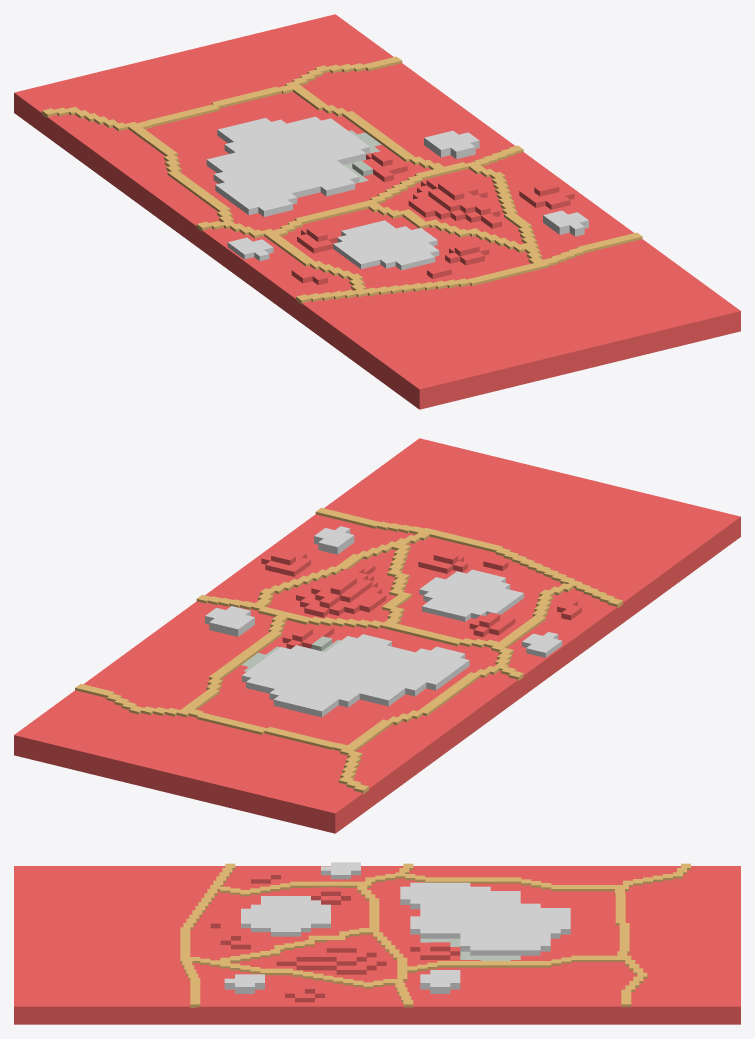
File: Map 3-7a.fbx
3 views of the same model, one above another, from view 1: azimuth 30°, elevation 25°; view 2: azimuth 150°, elevation 25°; view 3: azimuth 270°, elevation 25° (orthographic). The views are drawn at different scales.
Visible parts, largest first — view 1: Plane, Cube.013, Cube.011, Cube.047, Cube.053, Cube.003, Cube.054, Cube.056, Cube.062, Cube.046, Cube.064, Cube.052 (+2 smaller); view 2: Plane, Cube.013, Cube.011, Cube.047, Cube.053, Cube.003, Cube.054, Cube.056, Cube.062, Cube.052, Cube.064, Cube.046 (+4 smaller); view 3: Plane, Cube.013, Cube.011, Cube.047, Cube.053, Cube.054, Cube.003, Cube.056, Cube.046, Cube.062, Cube.043, Cube.064 (+21 smaller).
Part boxes in pixels (x1,y1,x2,y2): Plane: (14,14,740,409); Cube.013: (217,118,369,180); Cube.011: (206,154,359,216); Cube.047: (333,220,439,270); Cube.053: (408,176,501,228); Cube.003: (296,277,481,304); Cube.054: (426,178,490,215); Cube.056: (424,130,479,159); Cube.062: (543,210,588,236); Cube.046: (362,151,407,182); Cube.064: (519,184,574,209); Cube.052: (445,241,489,265); Plane: (14,438,740,833); Cube.013: (242,645,402,717); Cube.011: (320,634,469,706); Cube.047: (419,569,523,621); Cube.053: (296,563,386,617); Cube.003: (487,544,622,607); Cube.054: (311,566,372,608); Cube.056: (205,606,254,636); Cube.062: (314,526,354,554); Cube.052: (418,551,467,573); Cube.064: (261,548,310,576); Cube.046: (282,625,333,648); Plane: (14,866,740,1024); Cube.013: (450,899,570,955); Cube.011: (400,882,520,938); Cube.047: (241,896,330,936); Cube.053: (276,940,386,974); Cube.054: (296,944,376,965); Cube.003: (180,863,235,931); Cube.056: (420,970,460,993); Cube.046: (410,942,460,959); Cube.062: (224,974,264,993); Cube.043: (447,961,541,967); Cube.064: (285,981,324,1002).
Size of the model in its own units: 2024 by 213 by 4423.
